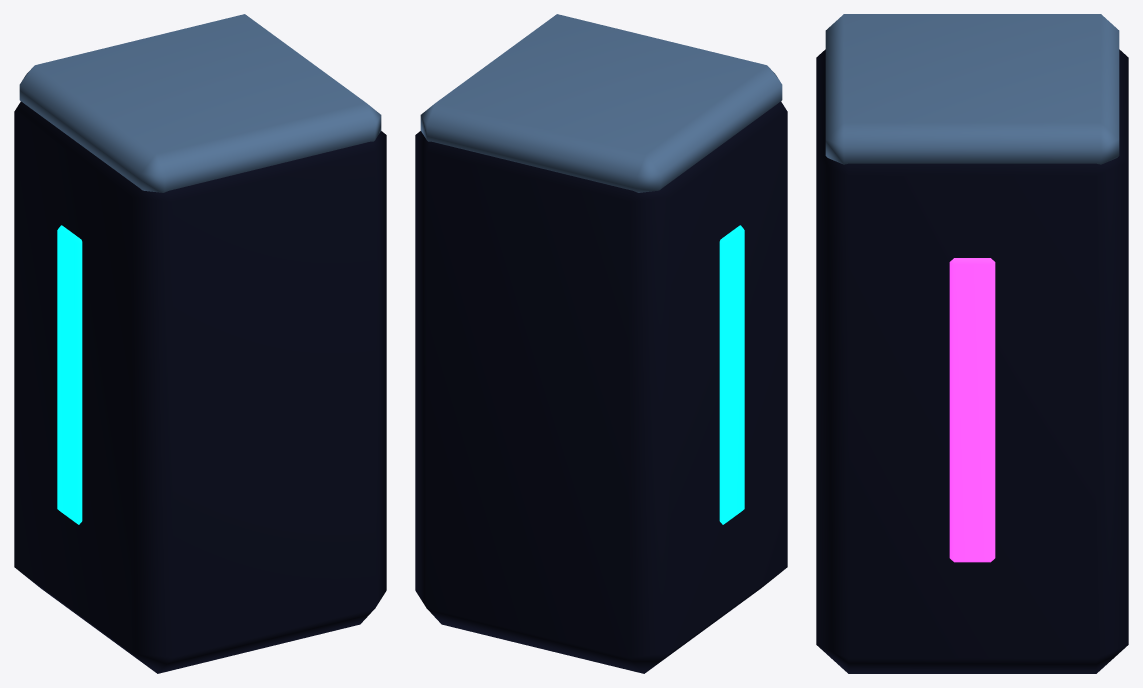
The model's file is NT_Wall_Pillar.fbx.
The picture shows the model from 3 angles, left to right: view 1: azimuth 30°, elevation 25°; view 2: azimuth 150°, elevation 25°; view 3: azimuth 270°, elevation 25°; orthographic projection. The views are drawn at different scales.
Parts seen in each view (by area): view 1: NT_Wall_Pillar__WallMesh; view 2: NT_Wall_Pillar__WallMesh; view 3: NT_Wall_Pillar__WallMesh.
Part boxes in pixels (x1,y1,x2,y2): NT_Wall_Pillar__WallMesh: (14,14,386,673); NT_Wall_Pillar__WallMesh: (415,14,787,673); NT_Wall_Pillar__WallMesh: (816,14,1128,673).
Bounding box in the file's own units: 0.716 × 1.33 × 0.68.
